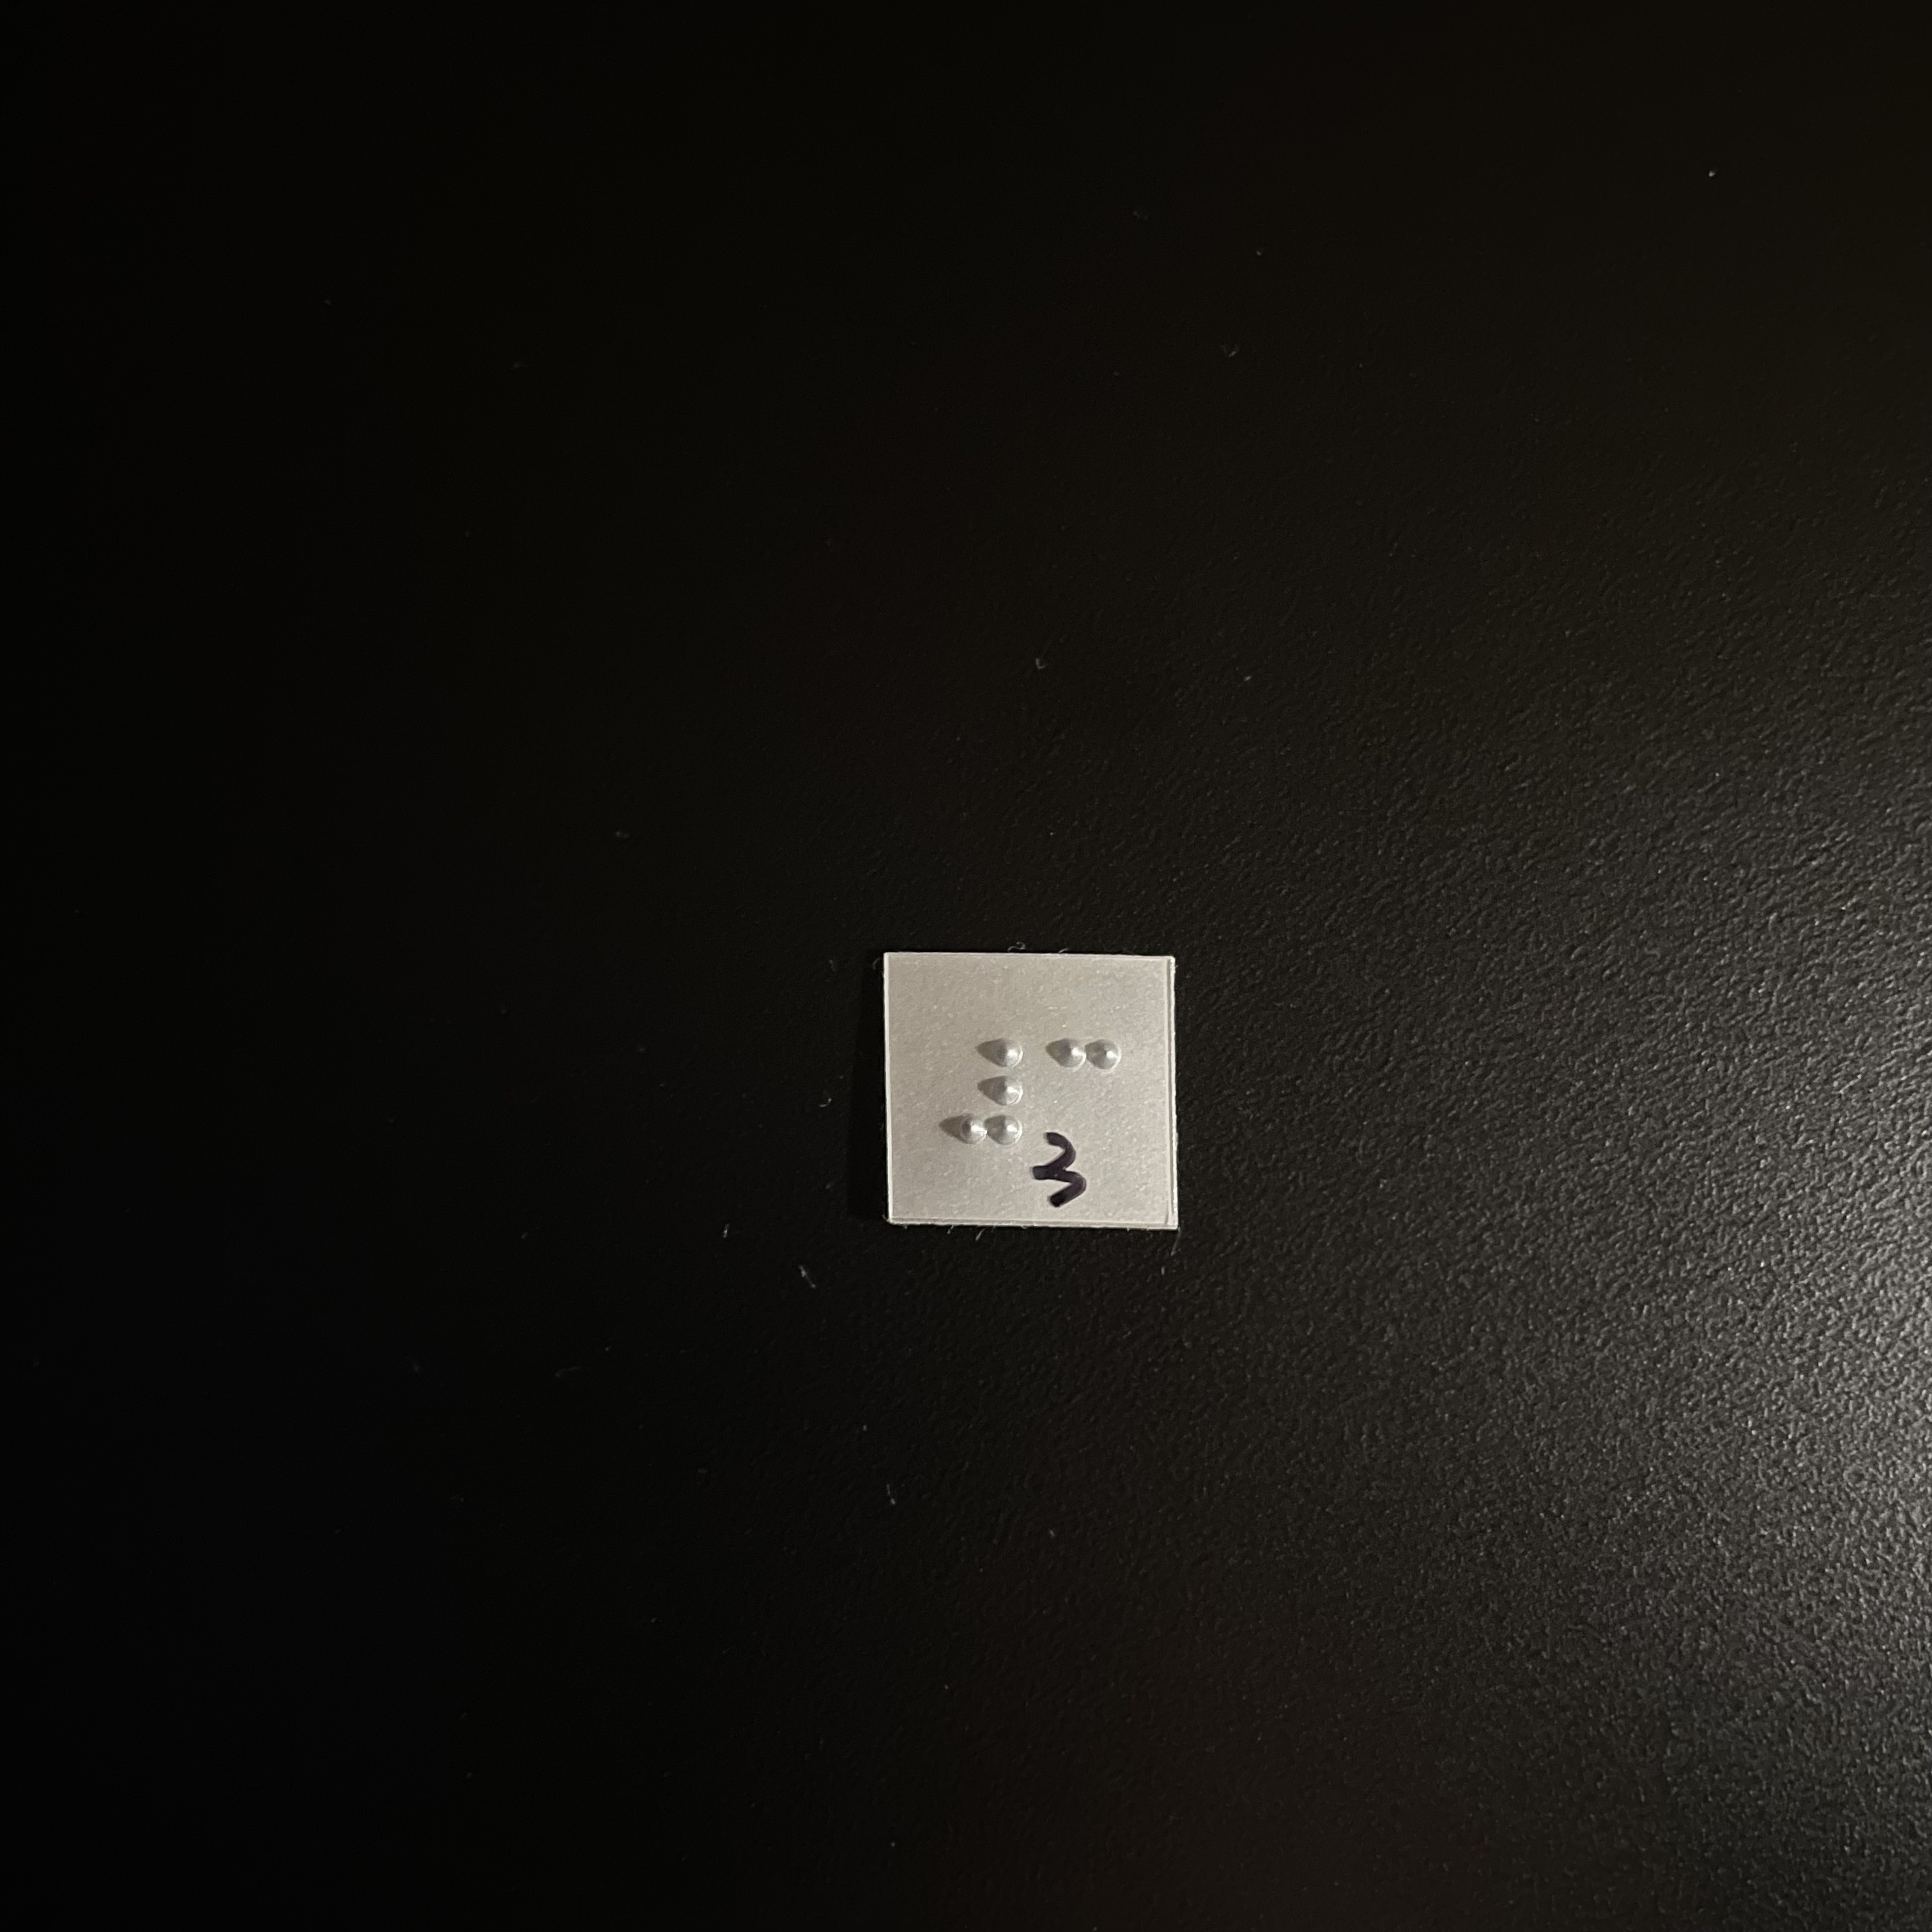#: (946, 1035, 1031, 1152)
c: (1043, 1035, 1126, 1158)
